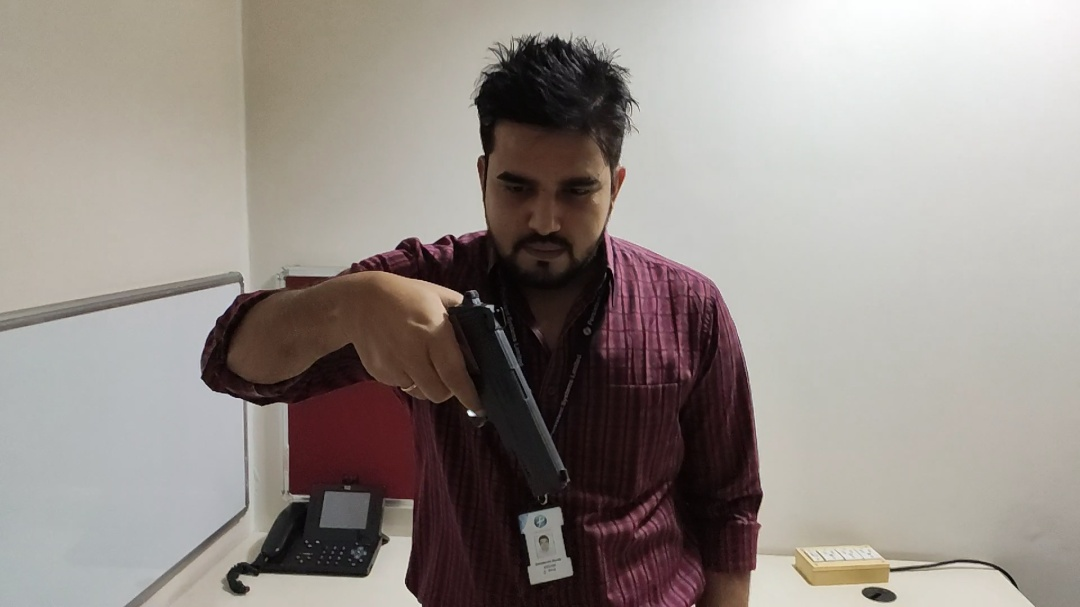gun: (406, 289, 591, 501)
